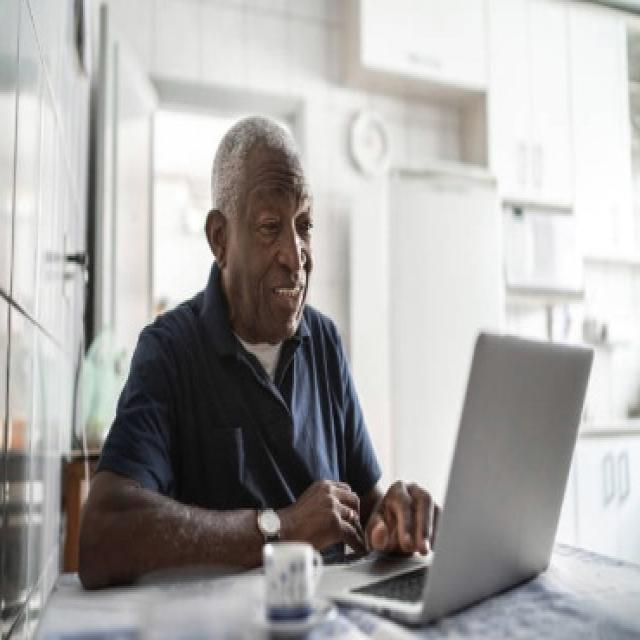adult: (55, 106, 437, 585)
